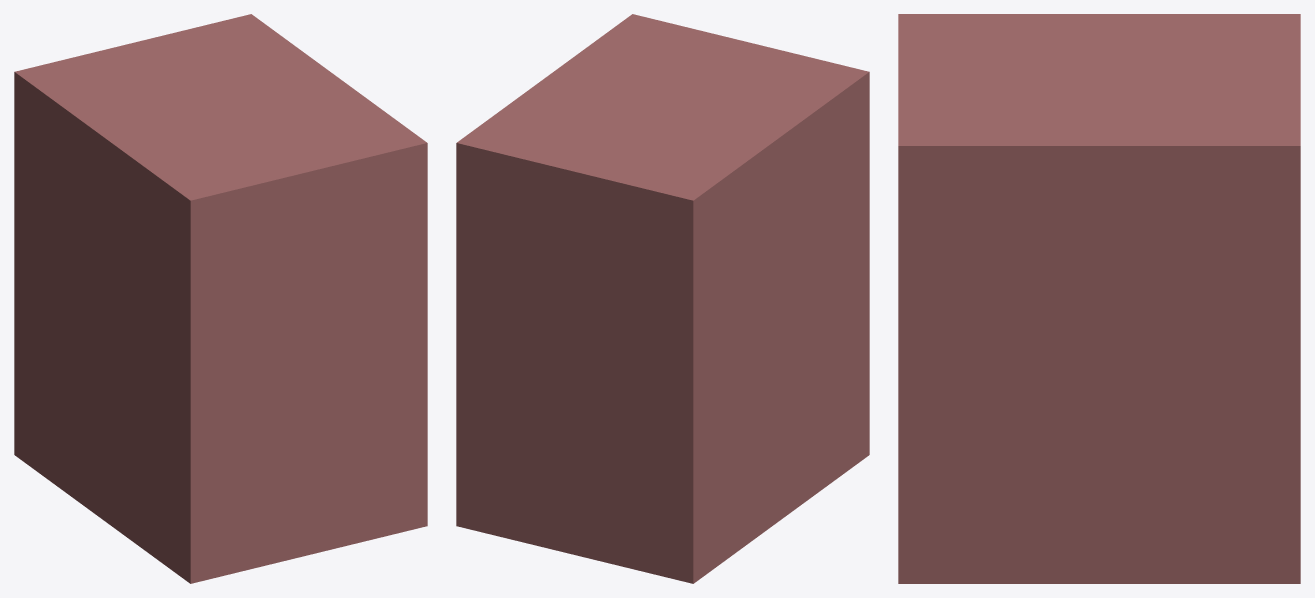
Rendered from Drawer.fbx.
The picture shows the model from 3 angles, left to right: view 1: azimuth 30°, elevation 25°; view 2: azimuth 150°, elevation 25°; view 3: azimuth 270°, elevation 25°; orthographic projection. The views are drawn at different scales.
Parts seen in each view (by area): view 1: Drawers; view 2: Drawers; view 3: Drawers.
Boxes of the visible parts, <box> form: Drawers: <box>14,14,427,583</box>; Drawers: <box>456,14,869,583</box>; Drawers: <box>898,14,1300,583</box>.
Size of the model in its own units: 65.99 by 102 by 84.94.
